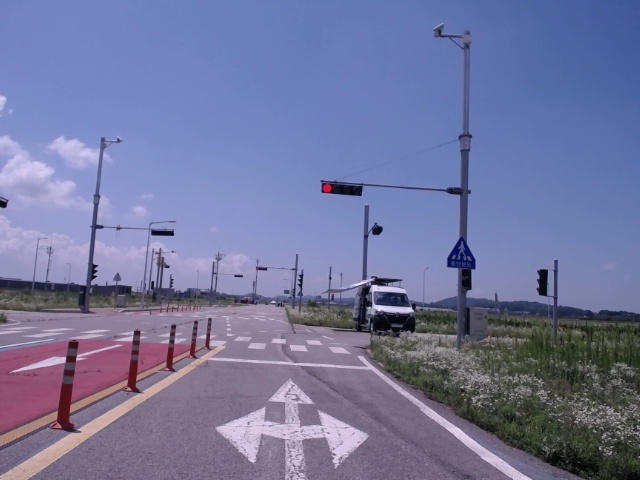red_4: (321, 183, 362, 196)
